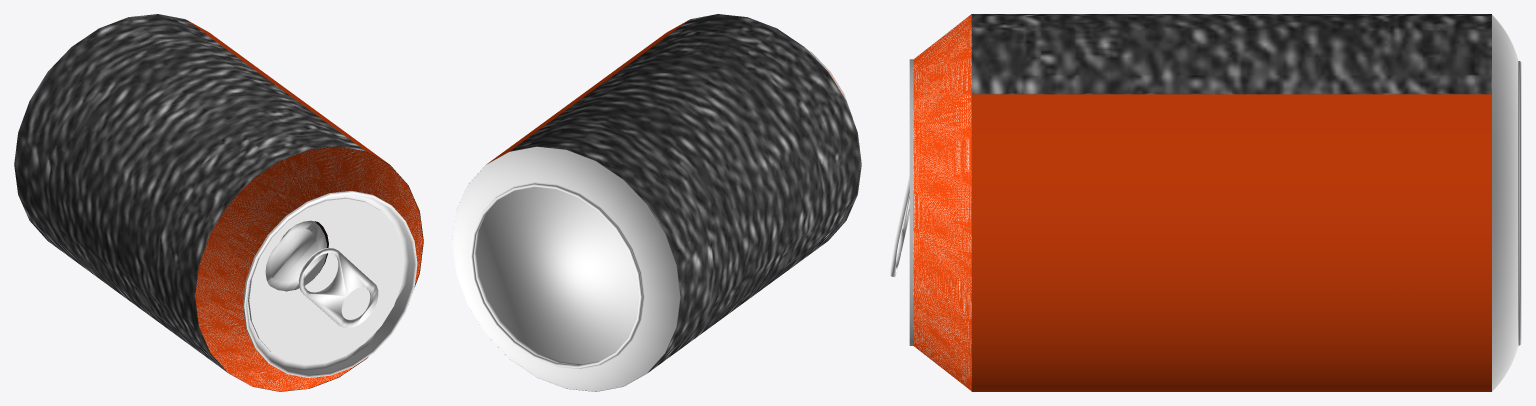
File: model_scale.obj
3 renders of one model, left to right at view 1: azimuth 30°, elevation 25°; view 2: azimuth 150°, elevation 25°; view 3: azimuth 270°, elevation 25°, orthographic. The views are drawn at different scales.
Parts seen in each view (by area): view 1: mesh1_mesh1-geometry, mesh5_mesh5-geometry, mesh9_mesh9-geometry, mesh3_mesh3-geometry; view 2: mesh1_mesh1-geometry, mesh2_mesh2-geometry; view 3: mesh1_mesh1-geometry, mesh5_mesh5-geometry, mesh2_mesh2-geometry, mesh3_mesh3-geometry.
Boxes of the visible parts, box(x1,y1,x2,y2) form: mesh1_mesh1-geometry: box(14, 14, 423, 391); mesh5_mesh5-geometry: box(195, 146, 423, 391); mesh9_mesh9-geometry: box(265, 220, 326, 290); mesh3_mesh3-geometry: box(298, 247, 378, 328); mesh1_mesh1-geometry: box(469, 14, 861, 391); mesh2_mesh2-geometry: box(452, 146, 680, 391); mesh1_mesh1-geometry: box(971, 14, 1491, 391); mesh5_mesh5-geometry: box(909, 14, 971, 390); mesh2_mesh2-geometry: box(1492, 15, 1521, 391); mesh3_mesh3-geometry: box(890, 174, 909, 277).
Bounding box in the file's own units: 0.0614 × 0.0614 × 0.1021.
